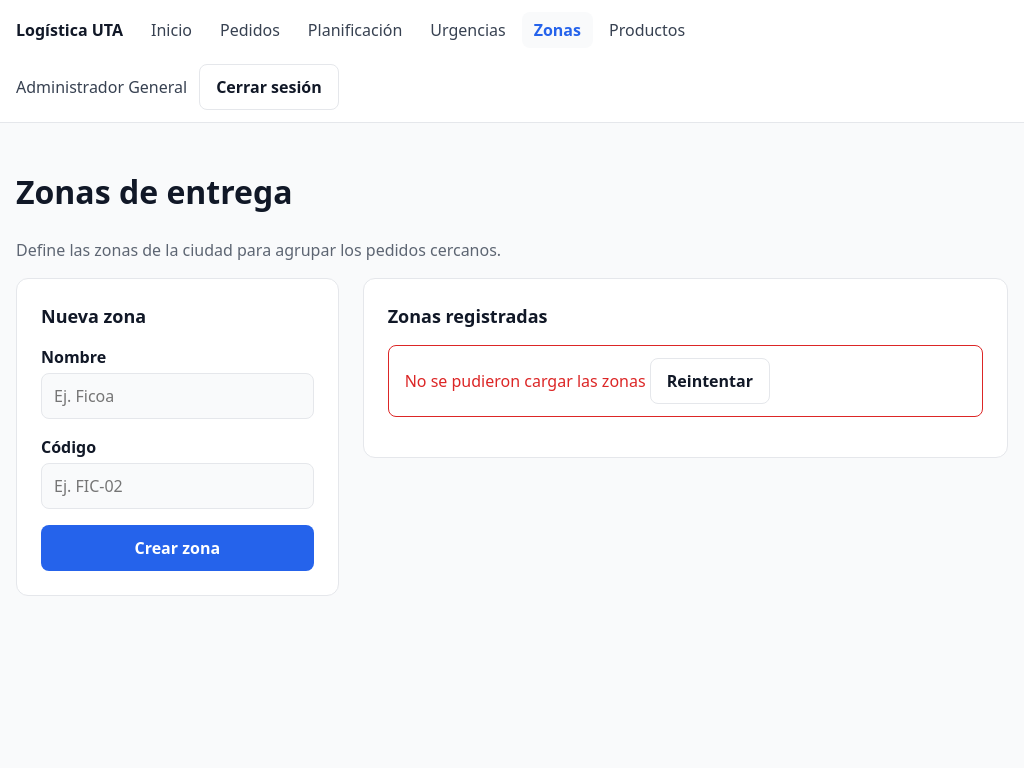
Test: ZonesPage › muestra un error si no se pueden cargar las zonas y permite reintentar
Expected: the message shows "No se pudieron cargar las zonas", [405,370,646,392]
Click the button "Reintentar": click(710, 381) [650,358,770,404]
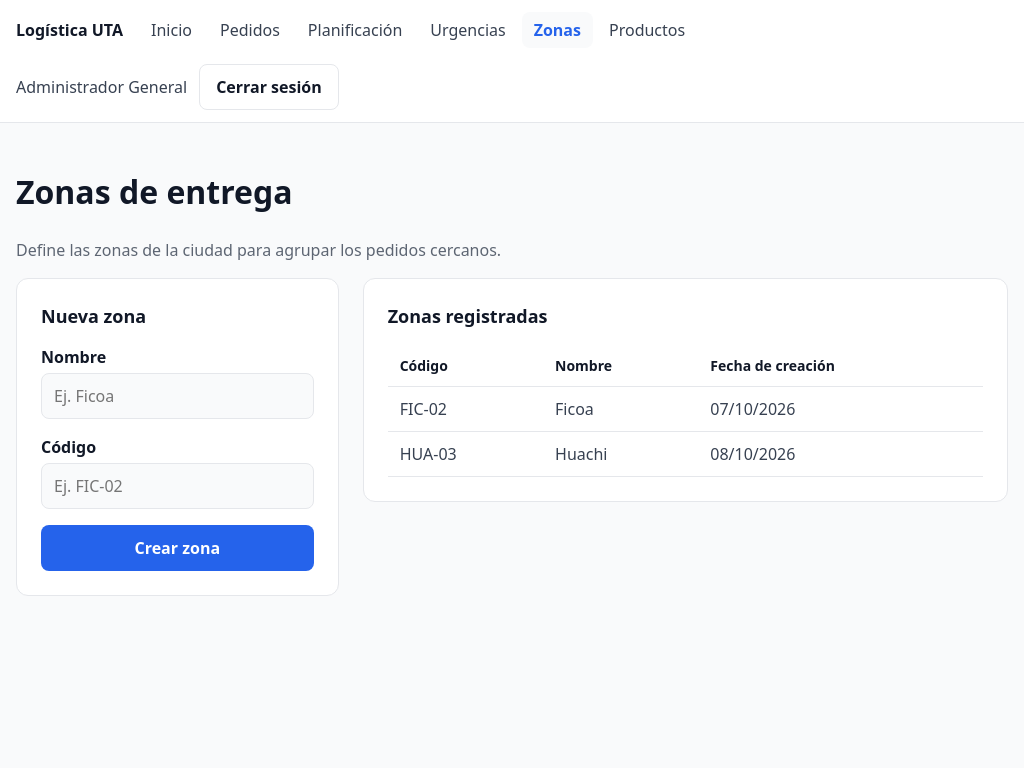
Expected: the table named "Zonas de entrega registradas" is shown, [388,345,983,477]
